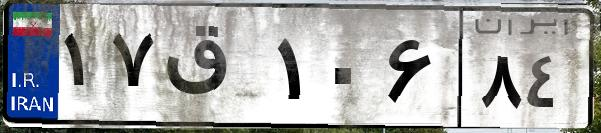0: (330, 28, 385, 110)
1: (270, 28, 330, 110), (57, 26, 110, 100)
4: (525, 38, 570, 115)
6: (385, 28, 445, 110)
7: (110, 28, 158, 98)
8: (475, 38, 525, 113)
ق: (158, 20, 270, 120)
